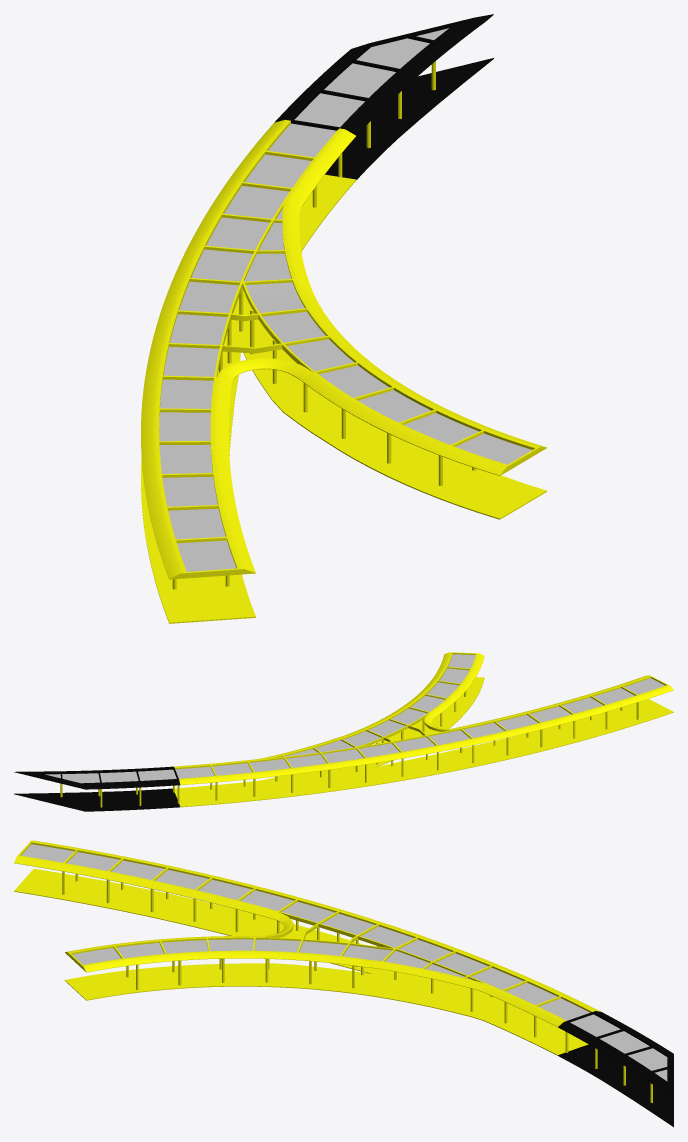
Rendered from sm_hana_walk_ramp.glb.
3 views of the same model, one above another, from view 1: azimuth 30°, elevation 25°; view 2: azimuth 150°, elevation 25°; view 3: azimuth 270°, elevation 25° (orthographic). The views are drawn at different scales.
Parts seen in each view (by area): view 1: sm_hana_walk_ramp; view 2: sm_hana_walk_ramp; view 3: sm_hana_walk_ramp.
Part boxes in pixels (x1,y1,x2,y2): sm_hana_walk_ramp: [141, 14, 546, 623]; sm_hana_walk_ramp: [14, 652, 673, 811]; sm_hana_walk_ramp: [14, 840, 673, 1127].
Bounding box in the file's own units: 116 × 6.66 × 125.
Materials: 3 (2 with a texture image).
